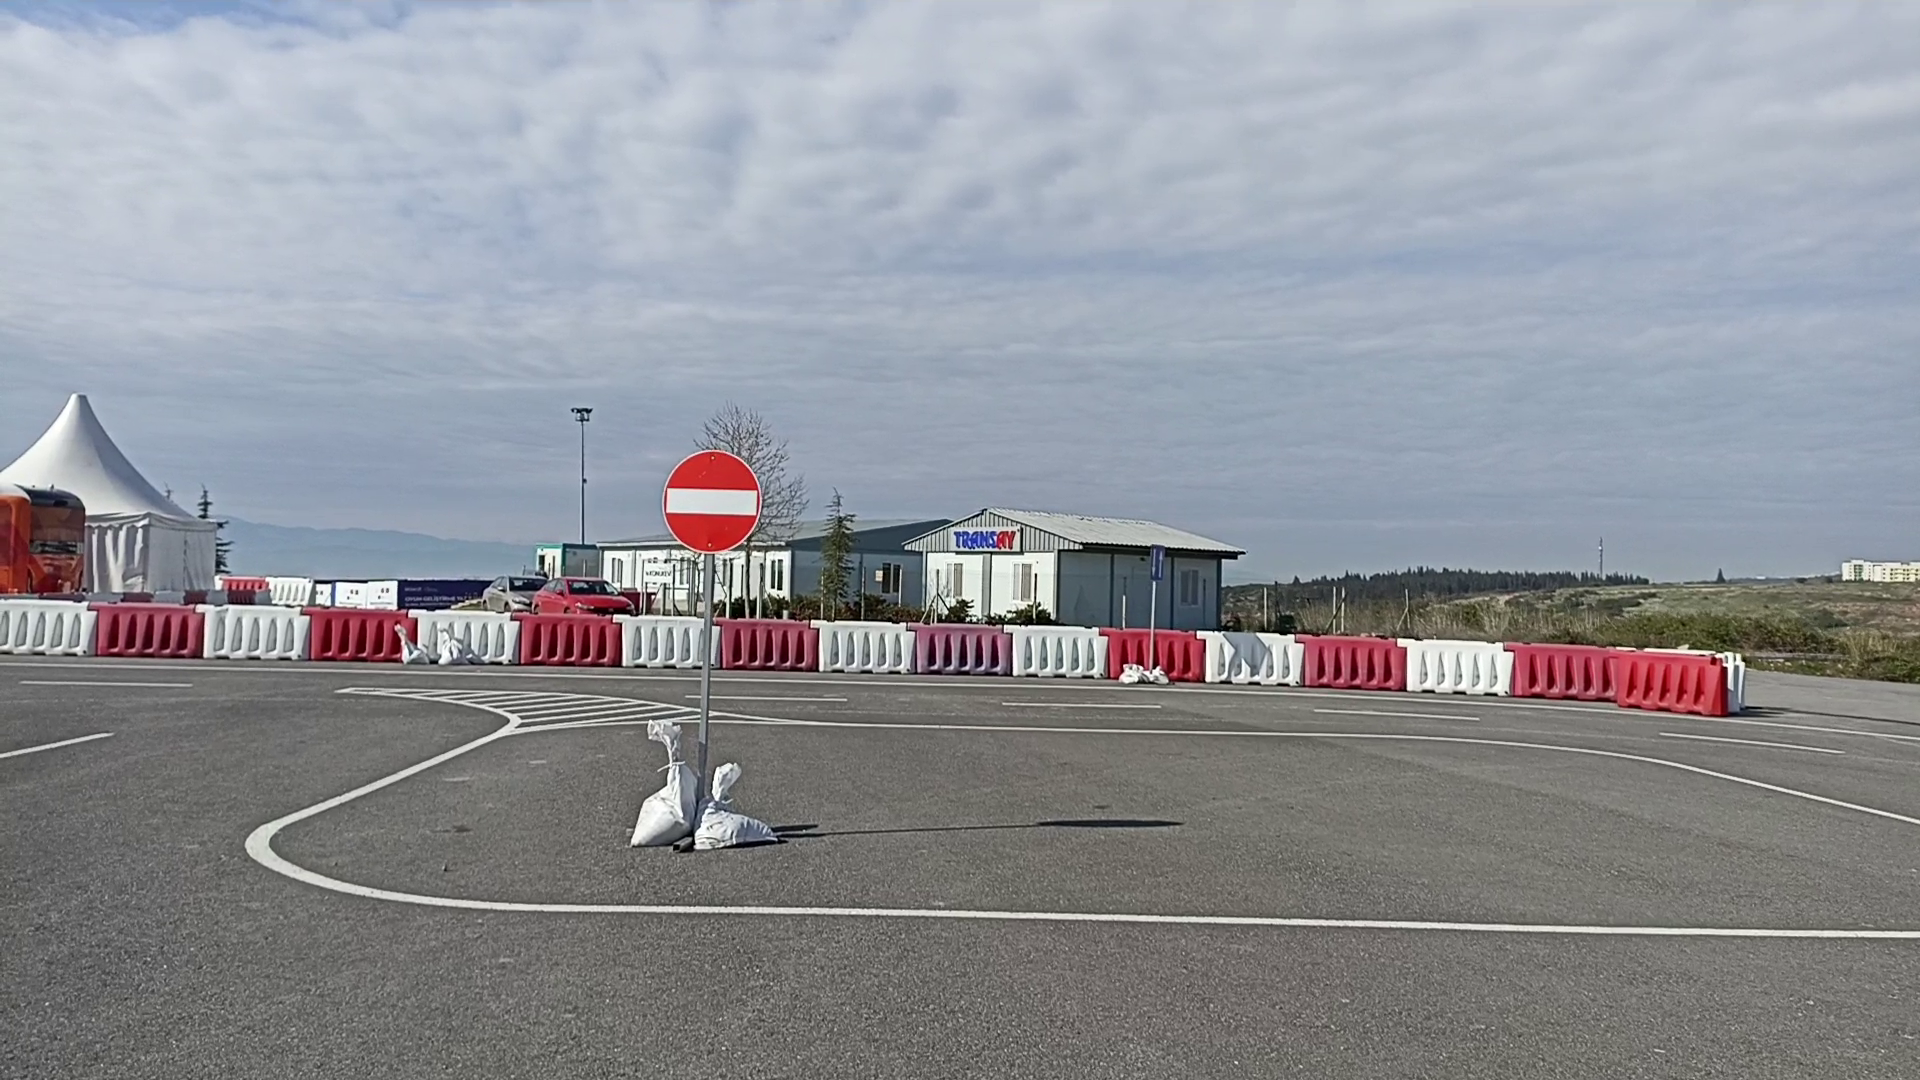noentryway: (658, 446, 765, 558)
